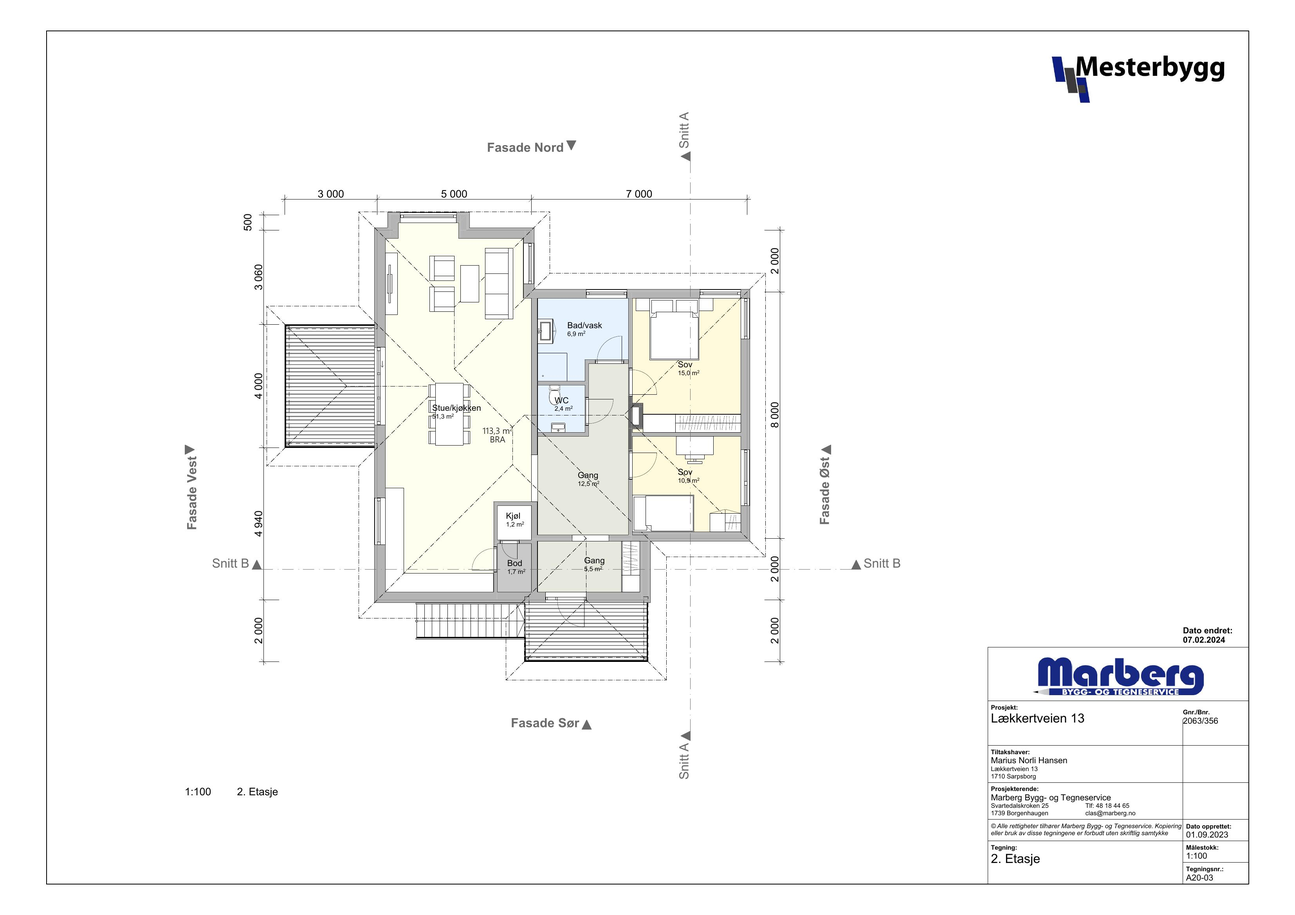plantegning: (267, 210, 768, 680)
